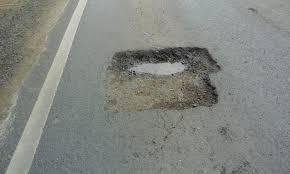Pothole: (107, 46, 221, 112)
